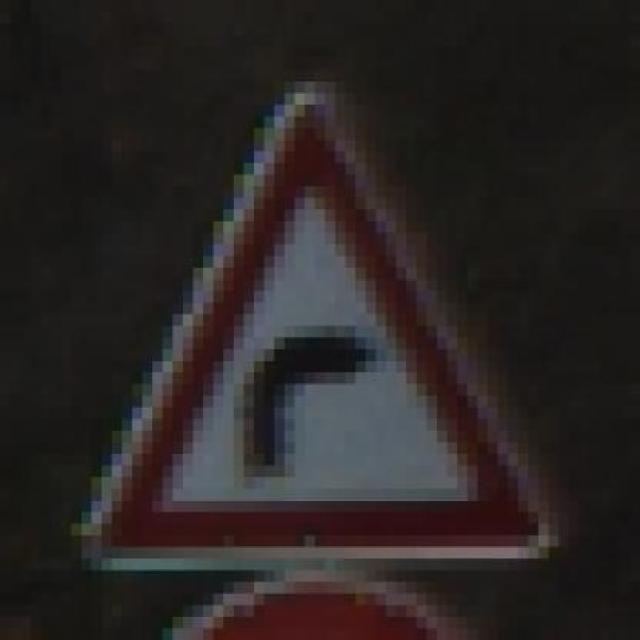Dangerous Rright Curve Ahead: (51, 93, 569, 570)
